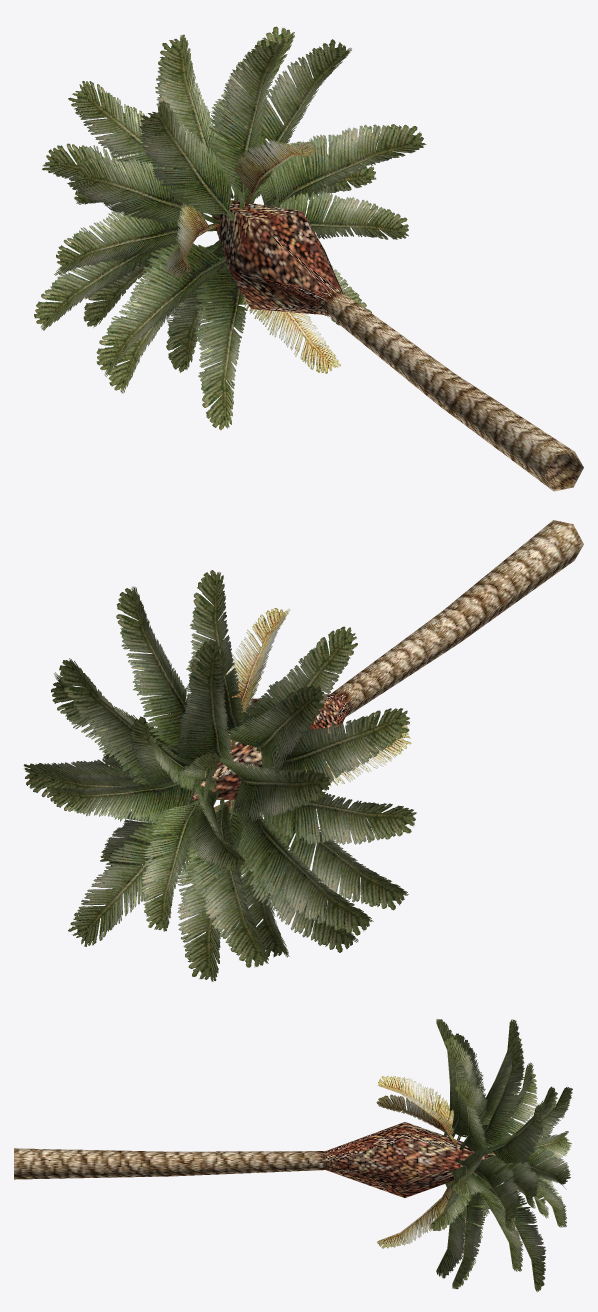
The model's file is cretan_date_02.glb.
3 renders of one model, top to bottom at view 1: azimuth 30°, elevation 25°; view 2: azimuth 150°, elevation 25°; view 3: azimuth 270°, elevation 25°, orthographic. The views are drawn at different scales.
Size of the model in its own units: 9.29 by 9.18 by 17.81.
1 material, 1 textured.
